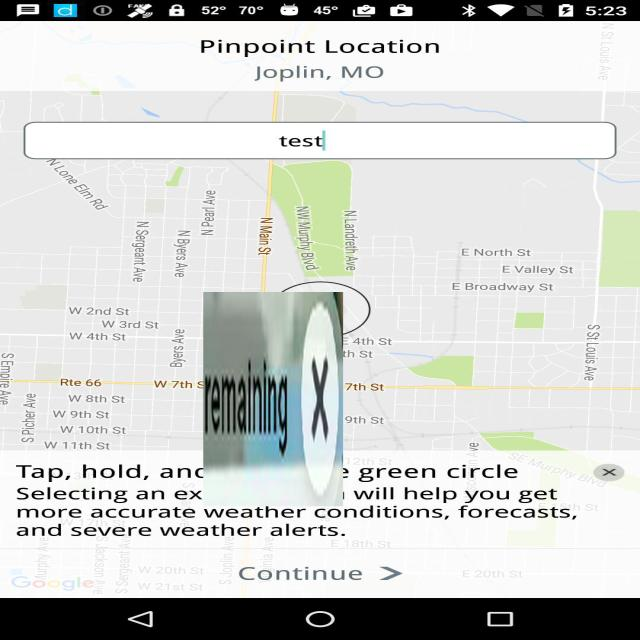misdirection: (203, 292, 343, 506)
